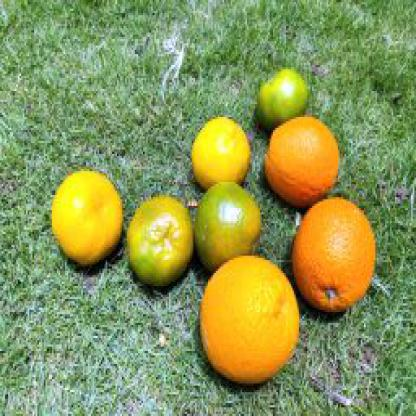orange: (197, 254, 302, 390), (282, 197, 378, 314), (258, 112, 342, 206), (47, 169, 120, 262), (187, 113, 252, 193)
